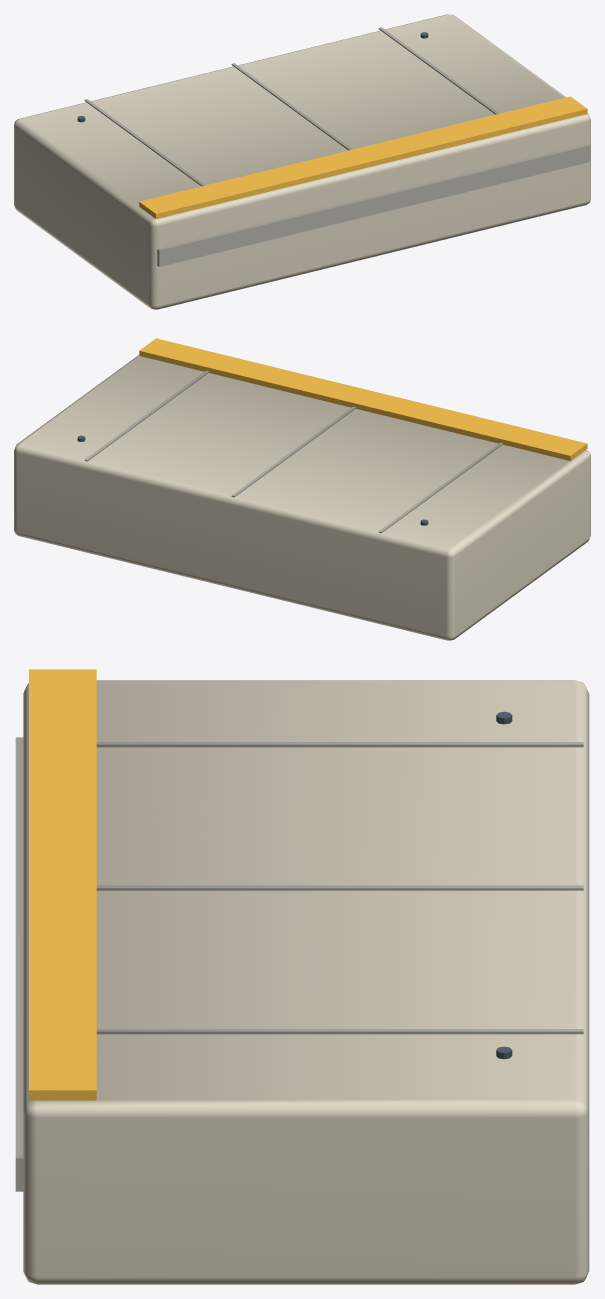
File: access-step.glb
The picture shows the model from 3 angles, top to bottom: view 1: azimuth 30°, elevation 25°; view 2: azimuth 150°, elevation 25°; view 3: azimuth 270°, elevation 25°; orthographic projection. The views are drawn at different scales.
Visible parts, largest first — view 1: raised curb, paving joint, edge stripe; view 2: raised curb, edge stripe, paving joint; view 3: raised curb, edge stripe, paving joint.
Boxes of the visible parts, x1,y1,x2,y2 form: raised curb: [14, 14, 590, 309]; paving joint: [84, 27, 590, 266]; edge stripe: [139, 96, 587, 218]; raised curb: [14, 355, 590, 640]; edge stripe: [139, 338, 587, 460]; paving joint: [84, 370, 503, 533]; raised curb: [23, 680, 589, 1284]; edge stripe: [29, 669, 96, 1100]; paving joint: [15, 737, 583, 1191].
Size of the model in its own units: 1.8 by 0.38 by 1.01.
